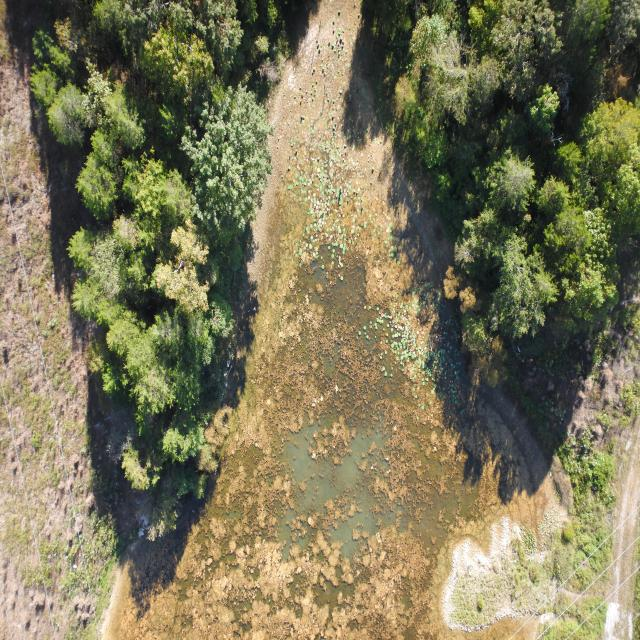Area of Interest: (37, 12, 276, 543), (373, 15, 633, 324)
